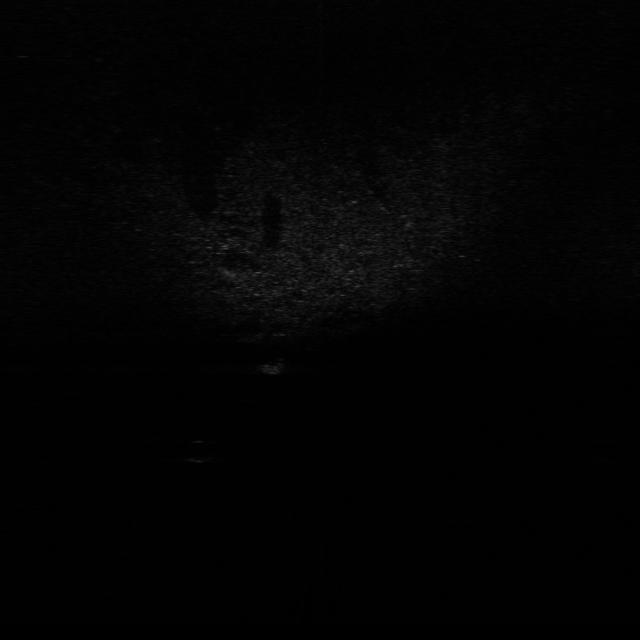ball: (180, 435, 222, 465)
cube: (252, 353, 288, 377)
